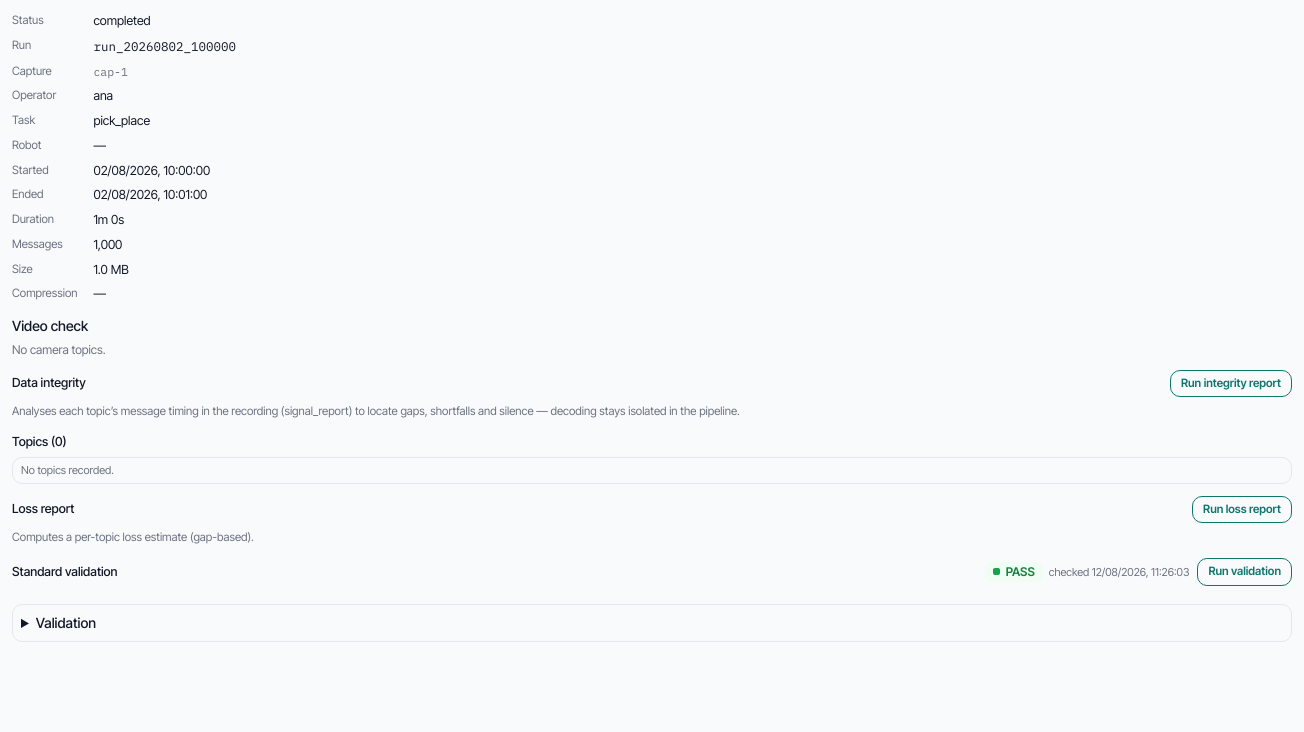
Test: the failed attempt carries its own way to try again
The image size is (1304, 732).
Step 1. Click the button with test id "review-run-validation" → (1245, 572), box [1197, 558, 1292, 586]
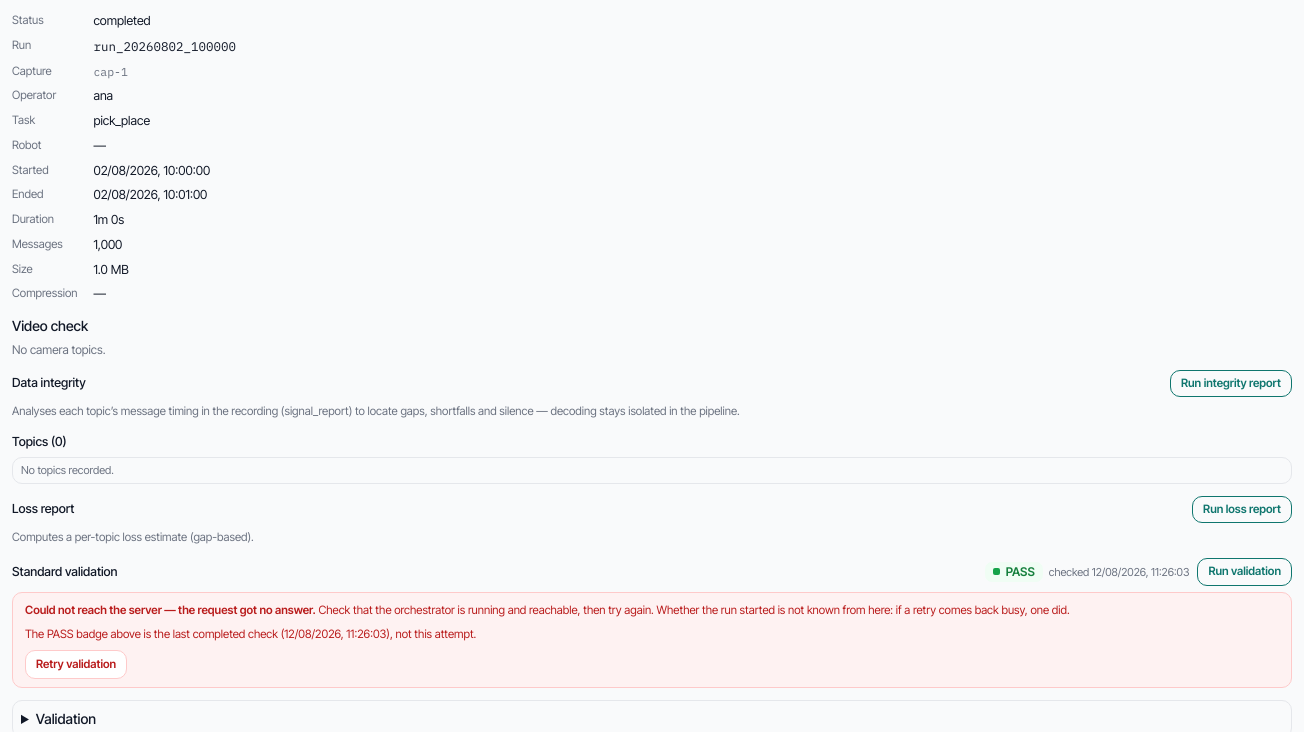
Check: the button with test id "review-validation-error-retry" is enabled
Step 2. Click the button with test id "review-validation-error-retry" → (76, 664), box [25, 650, 127, 679]
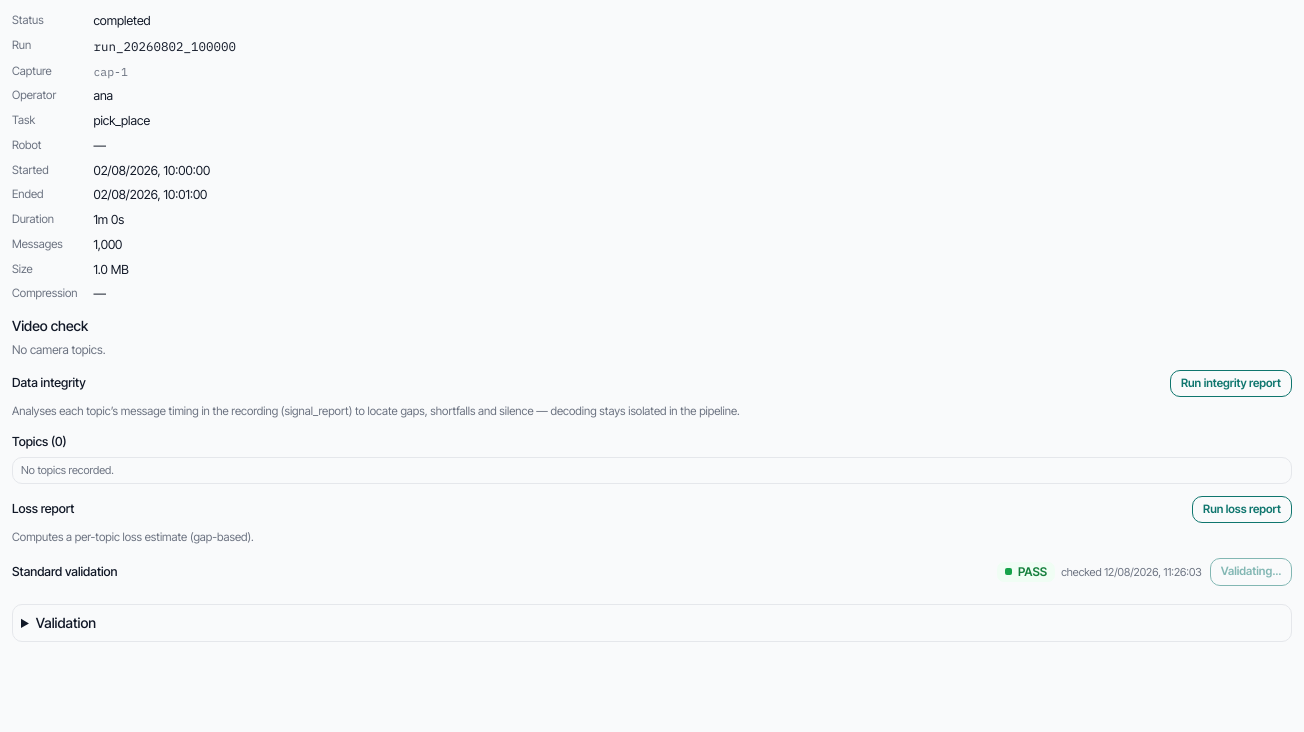
Check: the message with test id "review-validation-error" is gone
